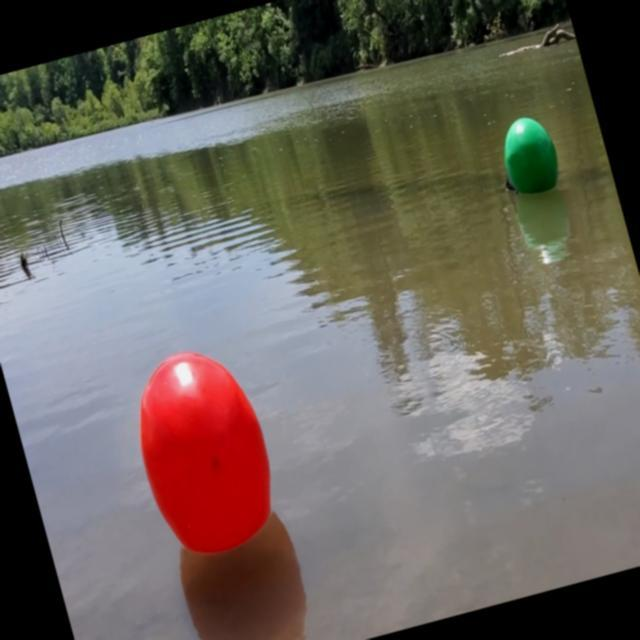buoy: (112, 327, 294, 570), (486, 108, 568, 203)
